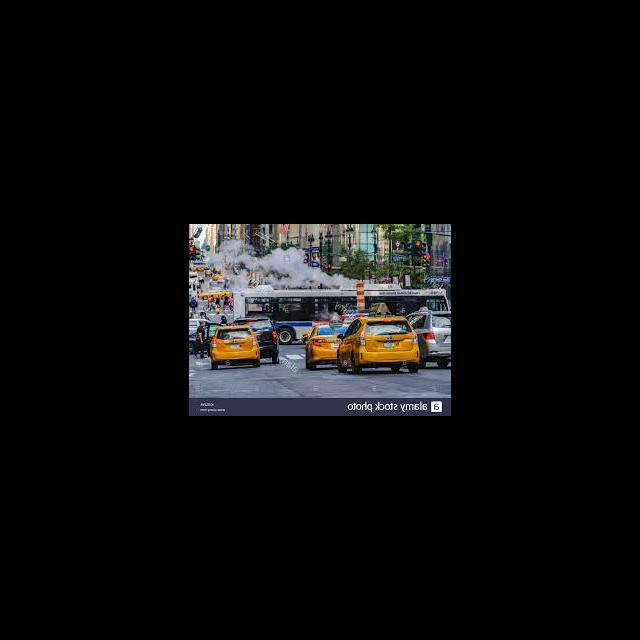Smoke: (208, 238, 358, 288)
